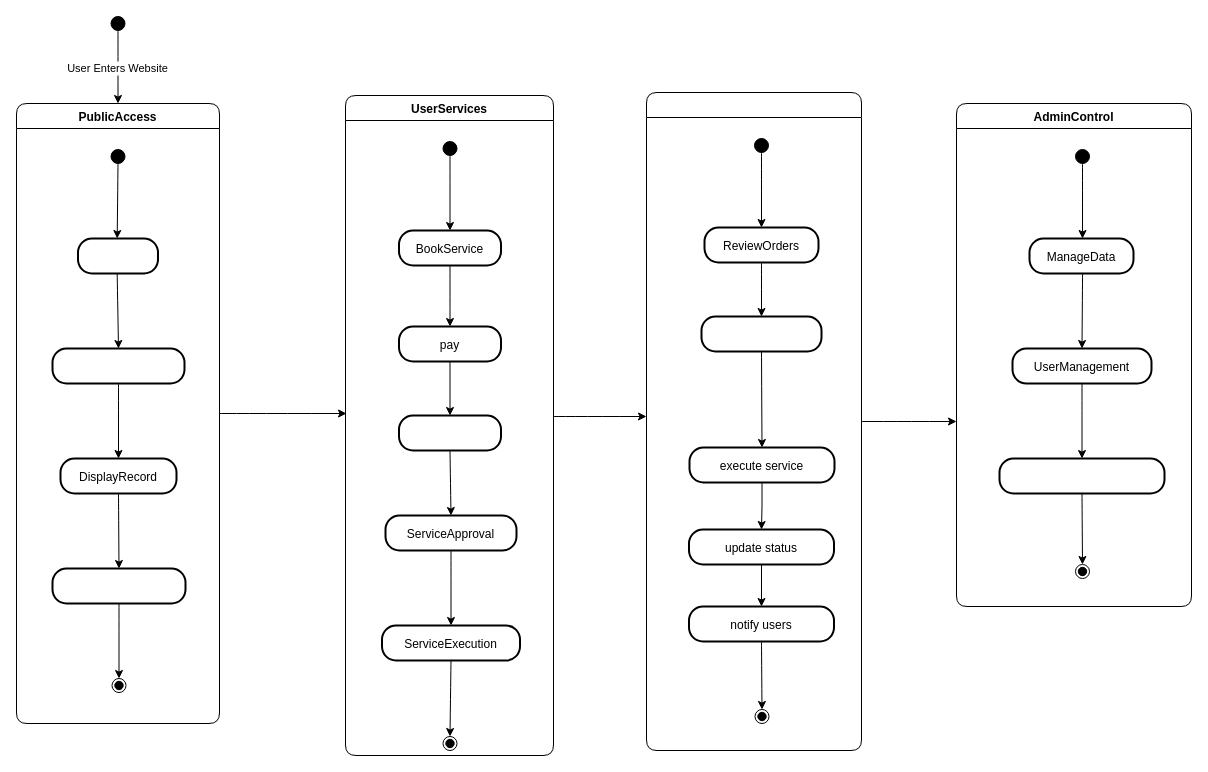
Image size: 1208x772. Some labels were removed from this diagram. The shapes that lost their labels are listed below. From the top down, each one's box as (x1, y1, x2, y2) in pixels, then its label:
(76, 237, 158, 274): ViewMap
(700, 315, 822, 352): AcceptDecline
(51, 347, 185, 384): SearchDeceased
(398, 414, 502, 451): StaffReview
(646, 92, 862, 750): StaffManagement
(998, 457, 1165, 494): ManageService
(51, 567, 186, 604): RouteNavigation
